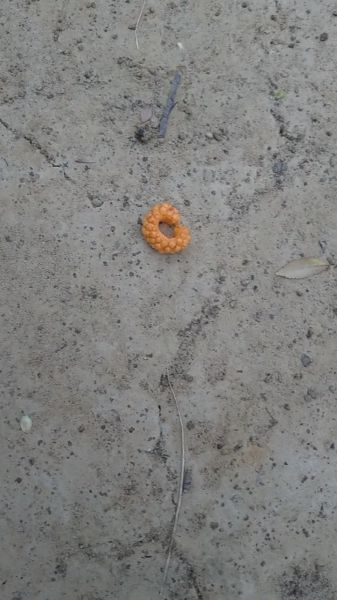eggs: (144, 194, 193, 256)
